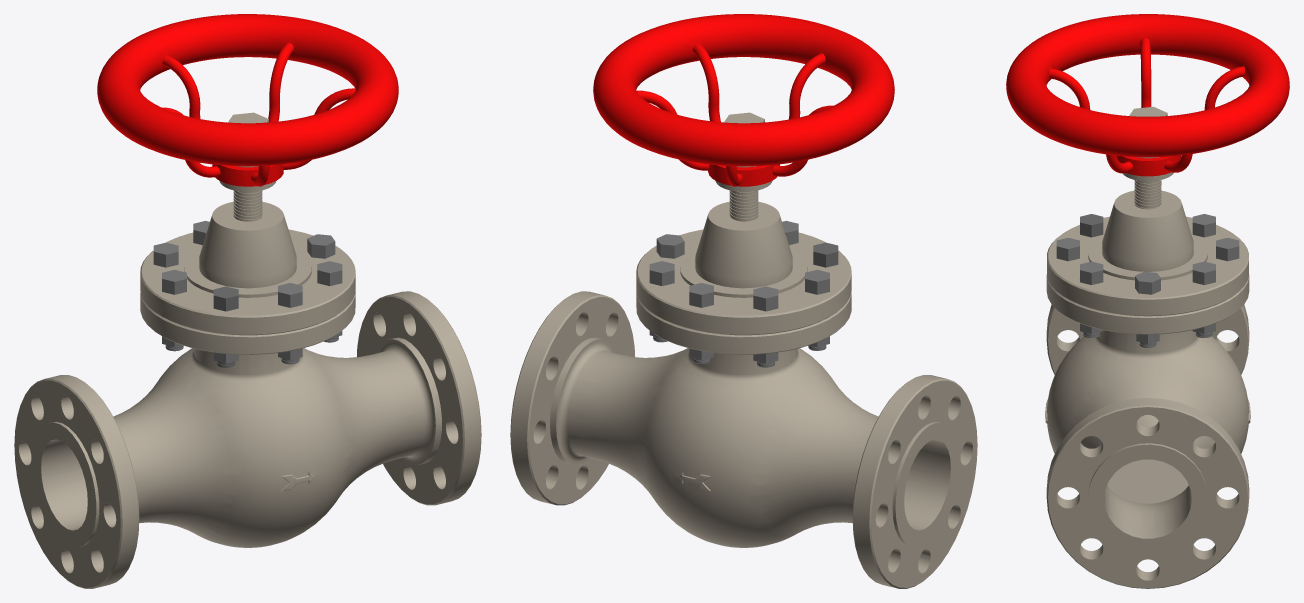
The model's file is valve_ii.glb.
3 views of the same model, side by side, from view 1: azimuth 30°, elevation 25°; view 2: azimuth 150°, elevation 25°; view 3: azimuth 270°, elevation 25° (orthographic). The views are drawn at different scales.
Parts seen in each view (by area): view 1: Object_7, Object_13, Object_8, Object_22, Object_26, Object_2, Object_10, Object_3, Object_12; view 2: Object_7, Object_13, Object_8, Object_22, Object_28, Object_2, Object_4, Object_11, Object_12; view 3: Object_7, Object_13, Object_8, Object_22, Object_12, Object_3, Object_11, Object_4, Object_10, Object_26, Object_28.
Part boxes in pixels (x1,y1,x2,y2): Object_7: [14, 291, 481, 588]; Object_13: [97, 14, 398, 186]; Object_8: [140, 201, 355, 335]; Object_22: [219, 112, 276, 221]; Object_26: [213, 286, 238, 367]; Object_2: [162, 269, 186, 351]; Object_10: [278, 283, 302, 364]; Object_3: [317, 261, 342, 342]; Object_12: [307, 234, 335, 258]; Object_7: [510, 291, 977, 588]; Object_13: [593, 14, 894, 186]; Object_8: [636, 201, 851, 335]; Object_22: [715, 112, 772, 221]; Object_28: [753, 286, 778, 367]; Object_2: [805, 269, 829, 350]; Object_4: [689, 283, 713, 363]; Object_11: [649, 261, 674, 342]; Object_12: [656, 234, 684, 258]; Object_7: [1045, 274, 1250, 588]; Object_13: [1006, 14, 1289, 176]; Object_8: [1047, 190, 1248, 316]; Object_22: [1122, 106, 1173, 209]; Object_12: [1135, 271, 1160, 347]; Object_3: [1080, 261, 1103, 337]; Object_11: [1192, 261, 1215, 337]; Object_4: [1216, 237, 1239, 261]; Object_10: [1056, 237, 1079, 261]; Object_26: [1080, 214, 1103, 237]; Object_28: [1192, 214, 1215, 237].
Size of the model in its own units: 0.3291 by 0.4002 by 0.2342.
